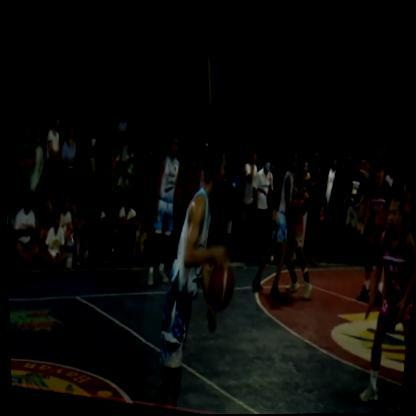basketball: (200, 257, 238, 316)
